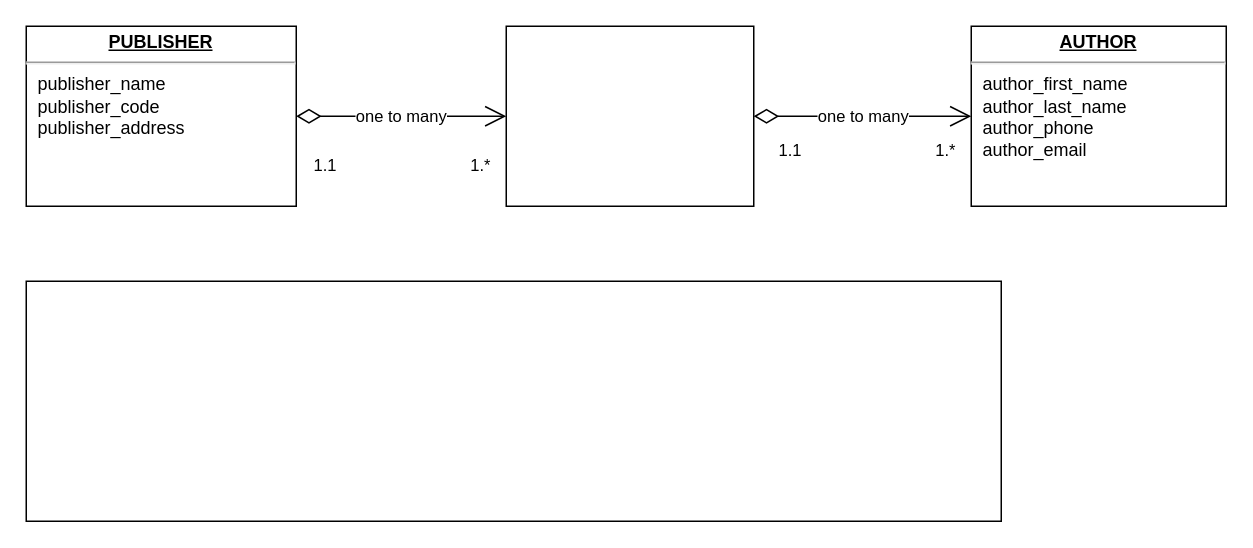
Some shapes in this 1253 by 548 pixel diagram are drawn without their labels. The shapes that lost their labels are listed below. From the top down, each one's centre as x and y in pixels, then its label:
the point at 629,115: BOOK book_isbn book_name book_price
the point at 513,400: Business Rules: a PUBLISHER can have many BOOK a BOOK can have many AUTHOR
